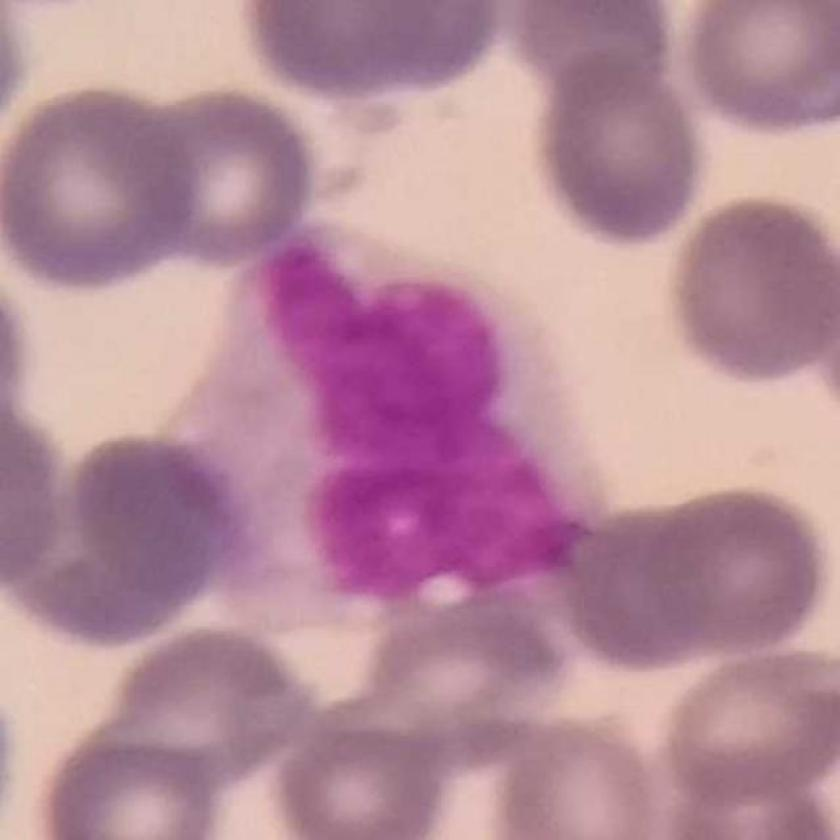monocyte: (164, 213, 628, 625)
